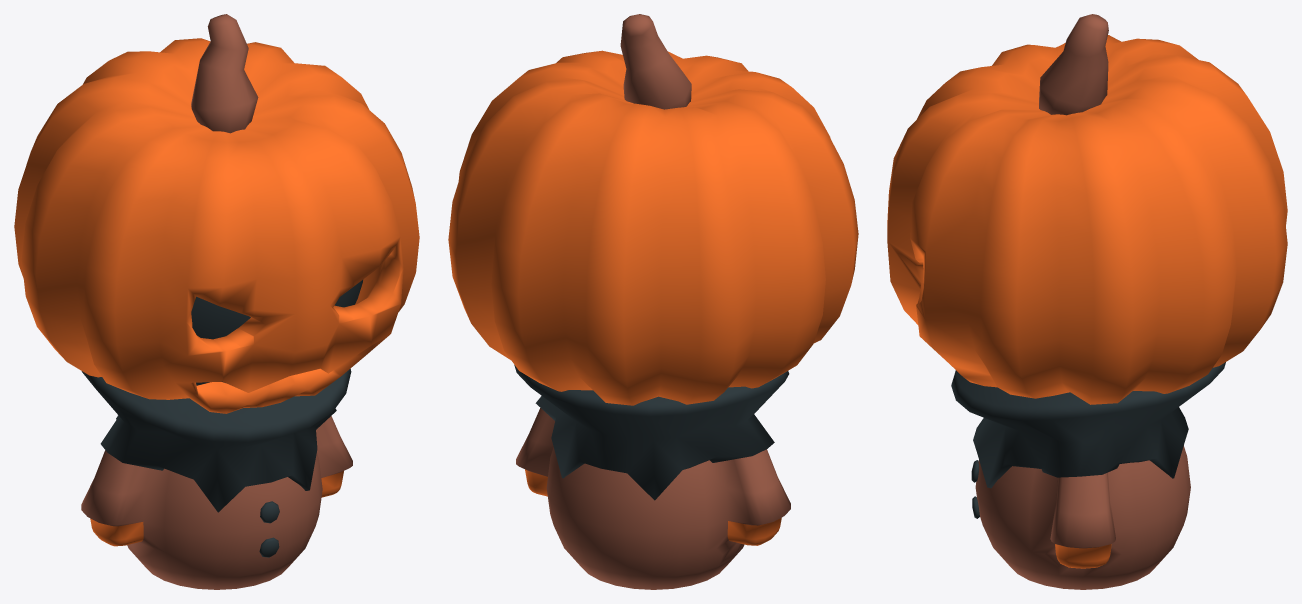
Rendered from character_jack.gltf.
3 renders of one model, left to right at view 1: azimuth 30°, elevation 25°; view 2: azimuth 150°, elevation 25°; view 3: azimuth 270°, elevation 25°, orthographic.
Parts seen in each view (by area): view 1: character_jackHat, character_jack, character_jackHead; view 2: character_jackHat, character_jack; view 3: character_jackHat, character_jack.
Boxes of the visible parts, <box> form: character_jackHat: <box>14,14,419,413</box>; character_jack: <box>81,369,352,589</box>; character_jackHead: <box>191,280,362,385</box>; character_jackHat: <box>448,14,858,405</box>; character_jack: <box>514,365,790,589</box>; character_jackHat: <box>887,14,1287,404</box>; character_jack: <box>951,362,1225,589</box>.
Size of the model in its own units: 1.34 by 1.96 by 1.3.
